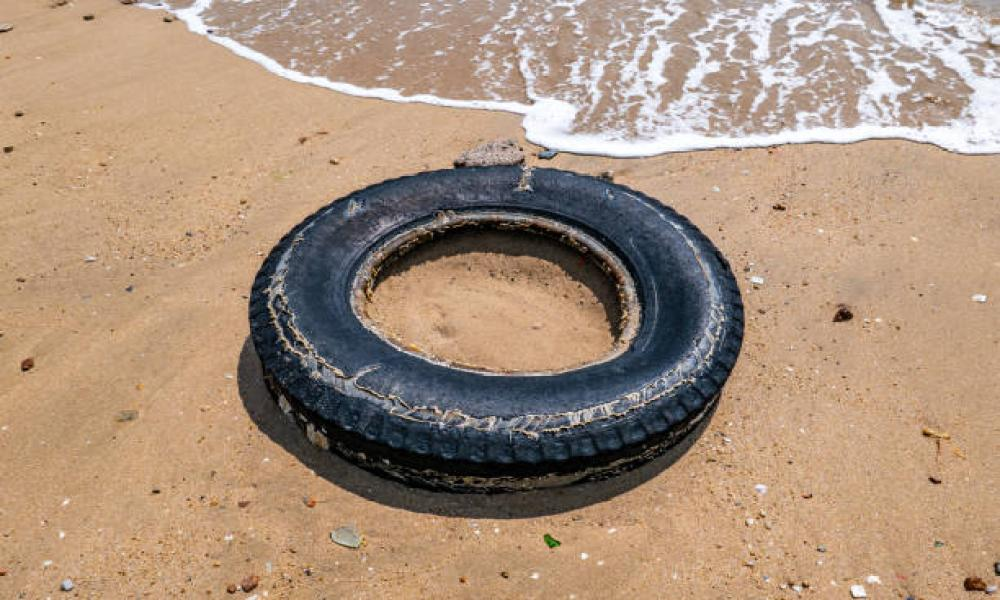tire: (246, 159, 746, 494)
